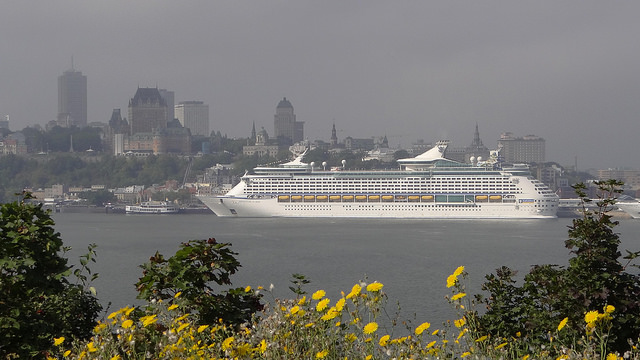boat: (128, 195, 178, 215)
cruise_ship: (197, 140, 571, 225)
